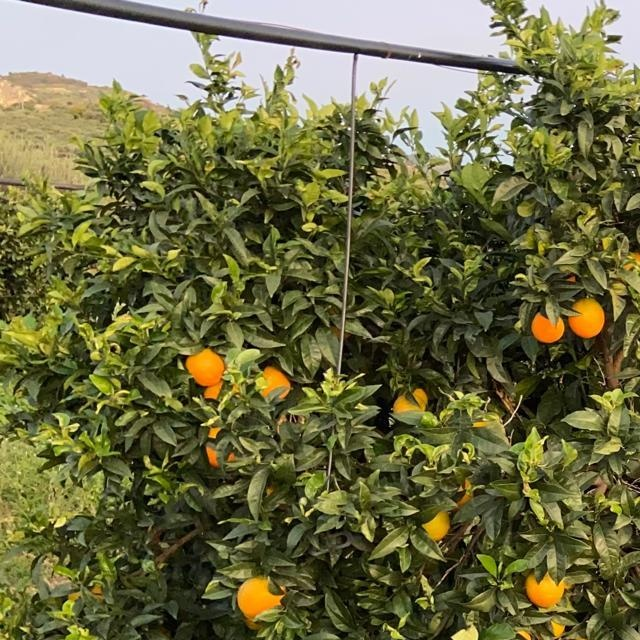orange: (235, 572, 283, 624), (184, 346, 226, 392), (567, 292, 607, 336), (204, 426, 242, 468), (525, 569, 565, 607), (258, 361, 294, 403), (530, 308, 566, 342), (393, 384, 429, 414), (423, 507, 451, 539), (201, 382, 239, 404), (327, 305, 349, 339), (69, 581, 99, 605), (452, 477, 476, 505), (620, 246, 640, 278), (497, 626, 533, 640), (453, 624, 479, 640), (561, 631, 587, 640), (263, 488, 277, 500), (565, 275, 579, 285)
